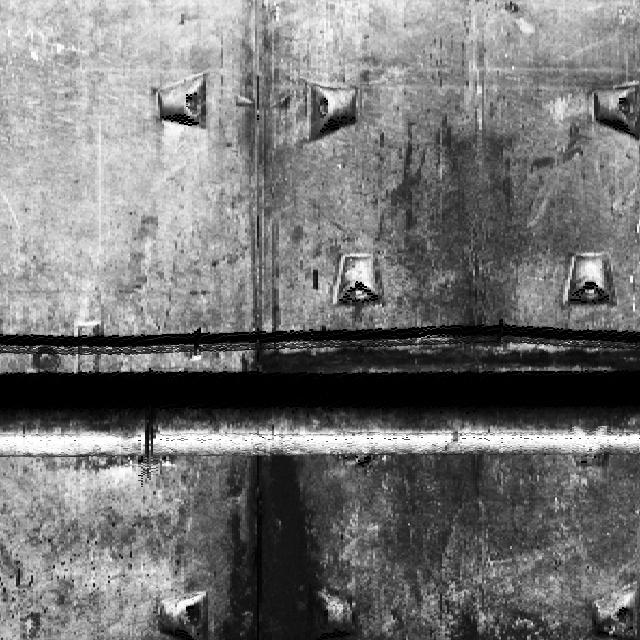leakage: (216, 448, 325, 636), (230, 213, 287, 372)
